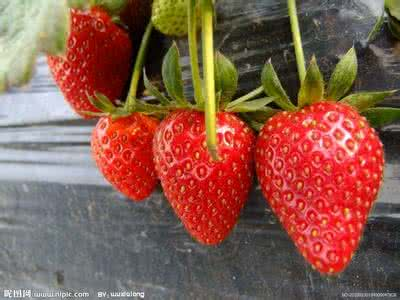strawberry: (255, 82, 382, 274), (157, 103, 252, 242), (45, 2, 133, 112), (92, 97, 163, 202)
